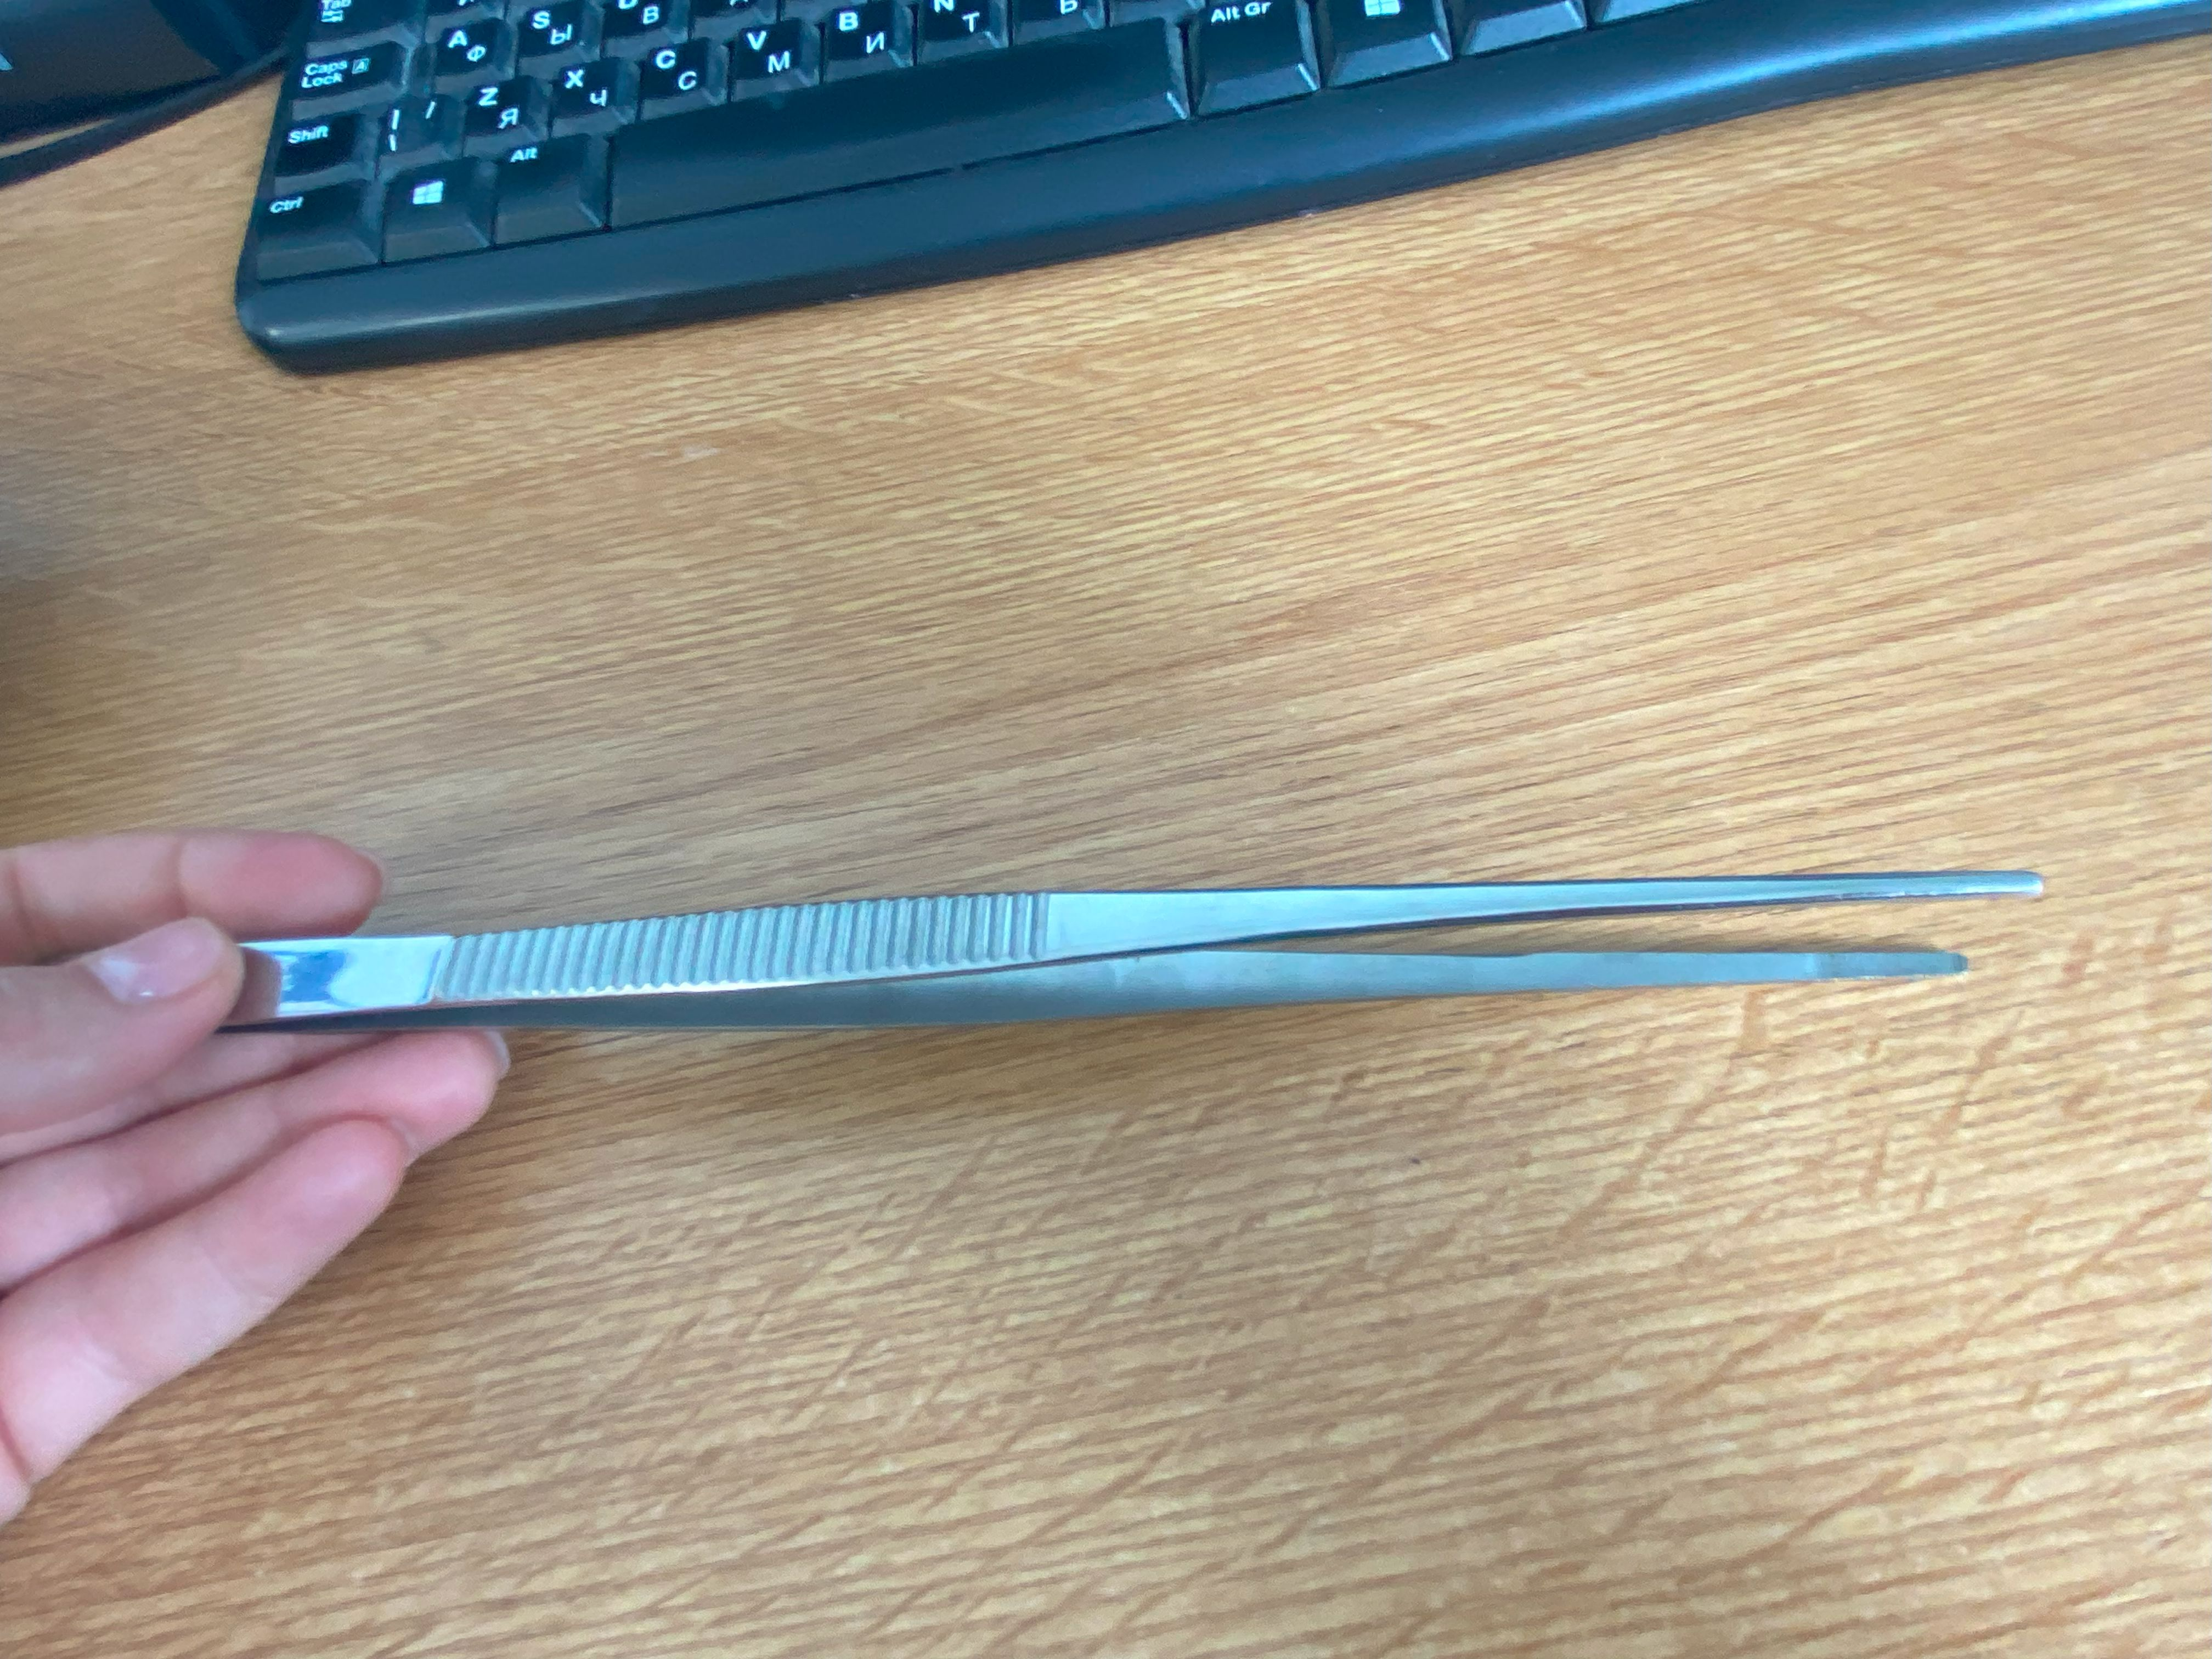tweezers: (228, 870, 2041, 1030)
